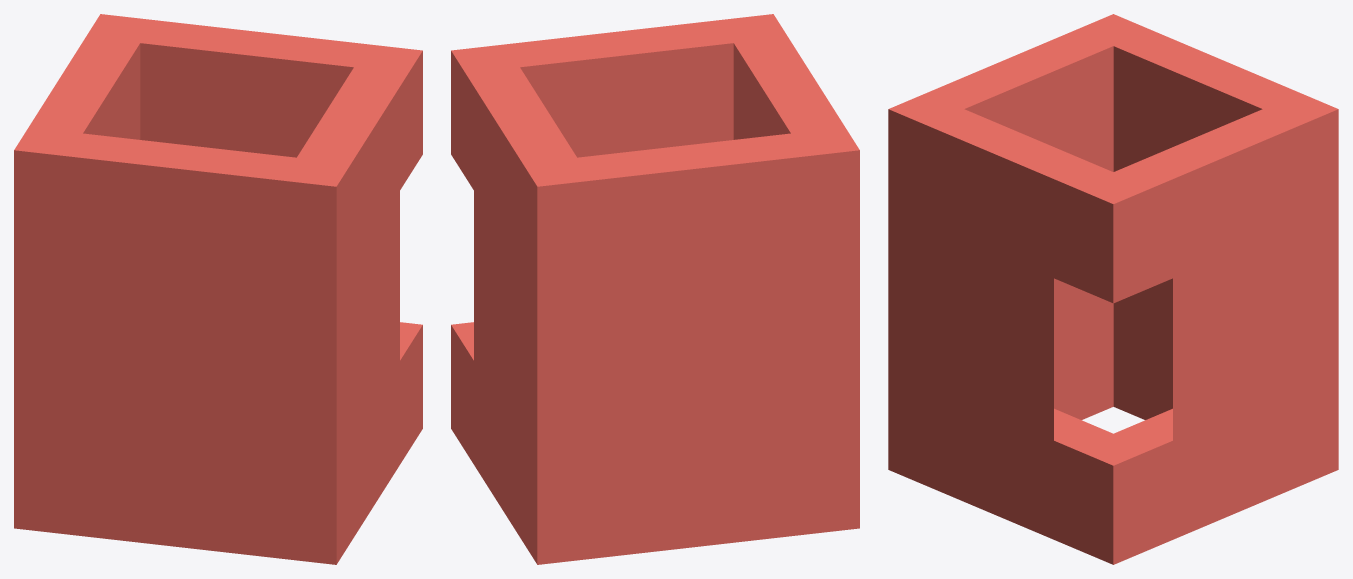
Rendered from var_8.glb.
3 views of the same model, side by side, from view 1: azimuth 30°, elevation 25°; view 2: azimuth 150°, elevation 25°; view 3: azimuth 270°, elevation 25° (orthographic). The views are drawn at different scales.
Parts seen in each view (by area): view 1: Cube.005; view 2: Cube.005; view 3: Cube.005.
Boxes of the visible parts, <box> form: Cube.005: <box>14,14,422,564</box>; Cube.005: <box>451,14,859,564</box>; Cube.005: <box>888,14,1338,564</box>.
Size of the model in its own units: 2.26 by 2 by 2.26.
